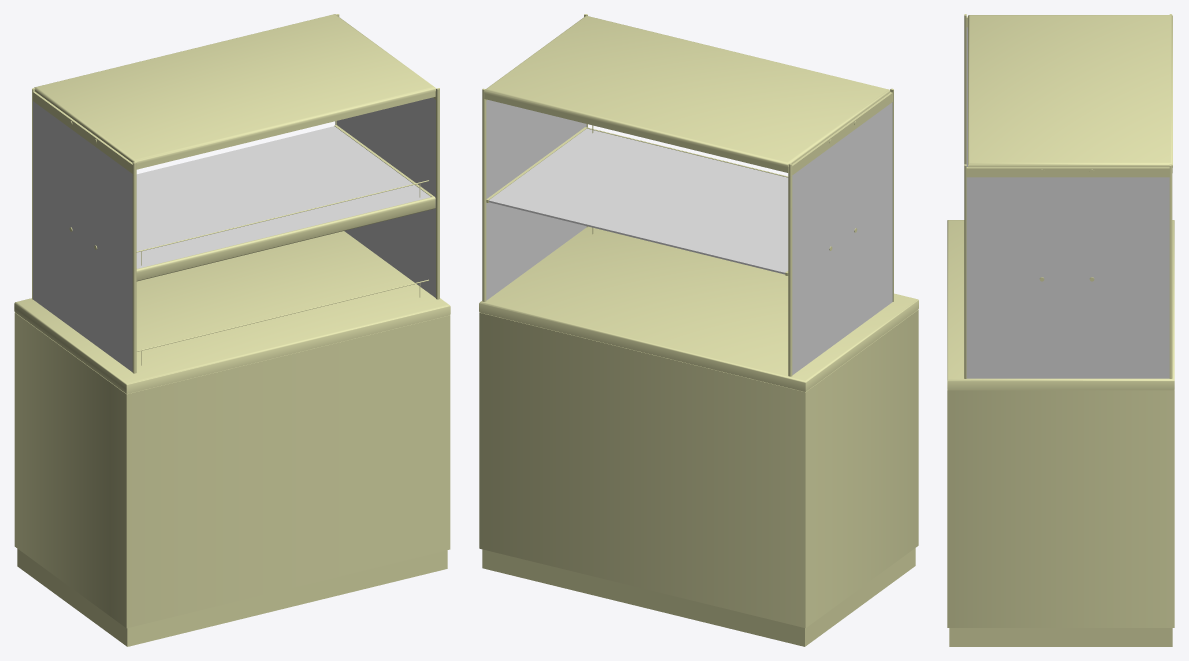
The model's file is Shelf_2.fbx.
The picture shows the model from 3 angles, left to right: view 1: azimuth 30°, elevation 25°; view 2: azimuth 150°, elevation 25°; view 3: azimuth 270°, elevation 25°; orthographic projection.
Parts seen in each view (by area): view 1: SM_Shelf_2, SM_Shelf_2_Glass; view 2: SM_Shelf_2, SM_Shelf_2_Glass; view 3: SM_Shelf_2, SM_Shelf_2_Glass.
Boxes of the visible parts, x1,y1,x2,y2 form: SM_Shelf_2: (14,14,450,646); SM_Shelf_2_Glass: (33,97,435,371); SM_Shelf_2: (479,14,918,646); SM_Shelf_2_Glass: (486,100,892,375); SM_Shelf_2: (947,14,1174,646); SM_Shelf_2_Glass: (966,27,1169,378).
Bounding box in the file's own units: 100 × 140 × 60.
